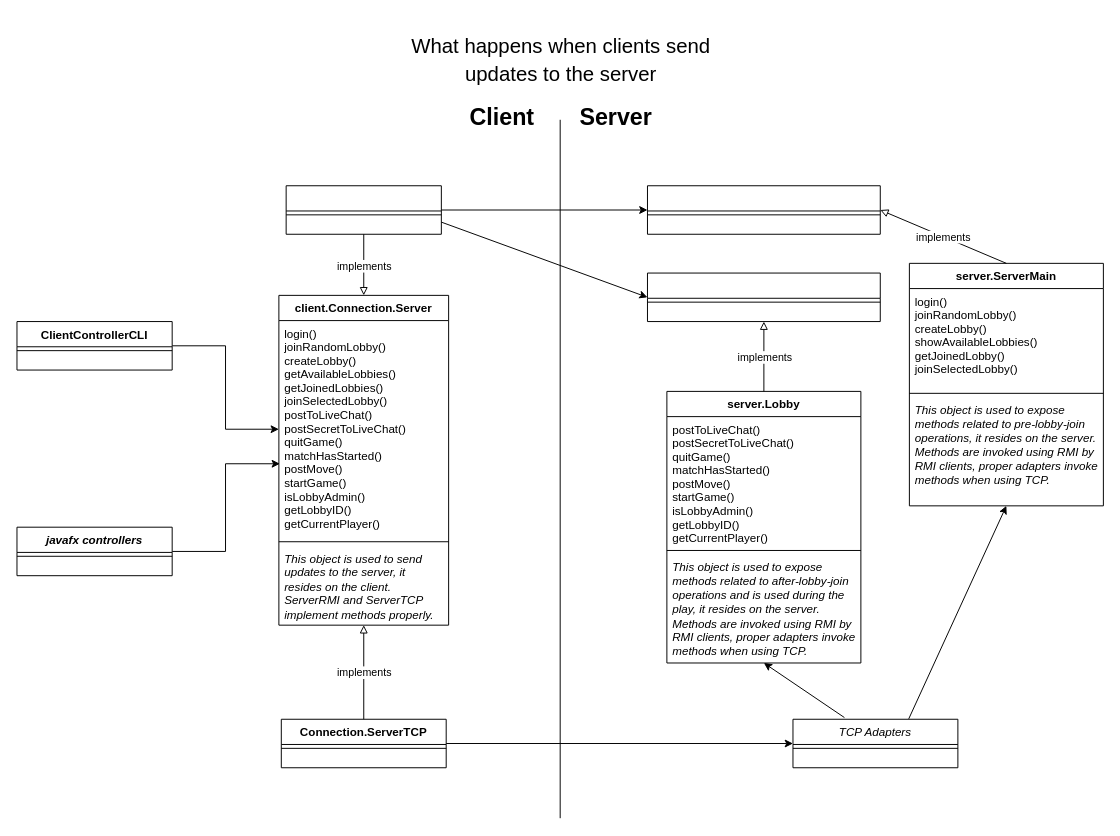
This 1120x836 diagram has some shape labels left out. The shapes that lost their labels are listed below. From the top down, each one's centre as x and y in pixels, then its label:
At (x=363, y=209): "Connection.ServerRMI".
At (x=763, y=209): "shared.RemoteInterfaces.ServerInterface".
At (x=763, y=297): "shared.RemoteInterfaces.LobbyInterface".
